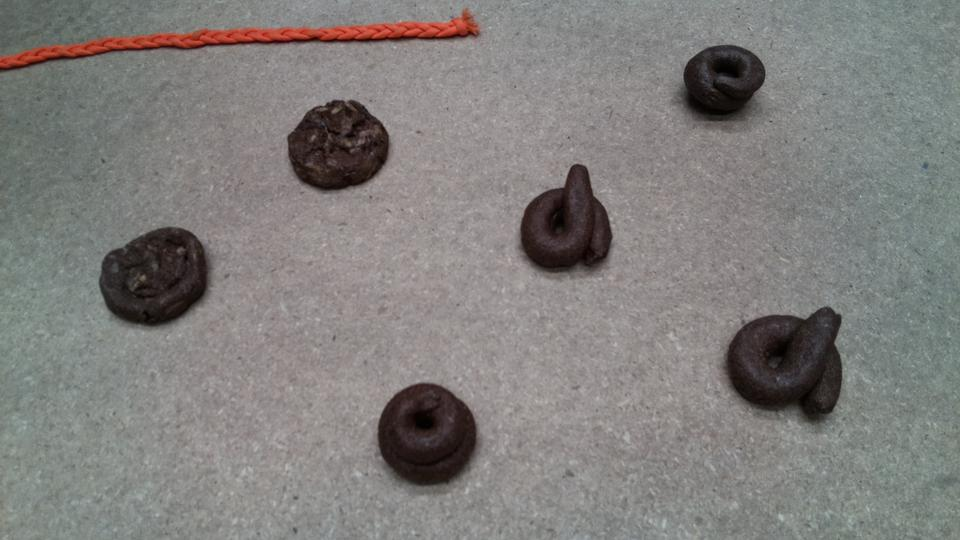poop: (722, 303, 845, 427), (94, 219, 212, 329), (372, 379, 482, 491), (517, 157, 616, 275), (283, 94, 393, 195), (680, 41, 768, 118)
rope: (1, 6, 485, 77)
